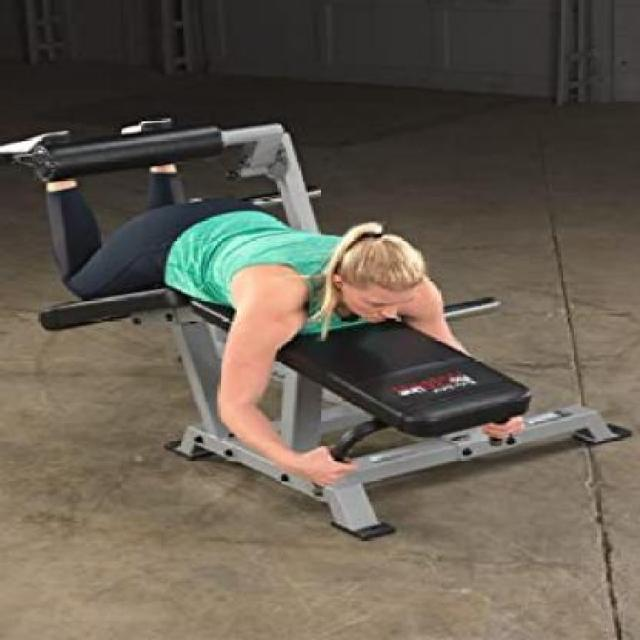reg curl machine: (0, 107, 635, 540)
